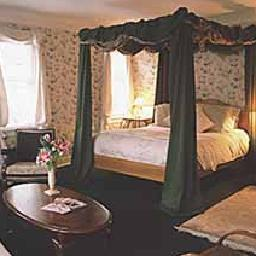Cama: (82, 105, 246, 175)
Ventana: (4, 35, 47, 124), (101, 50, 135, 117)
